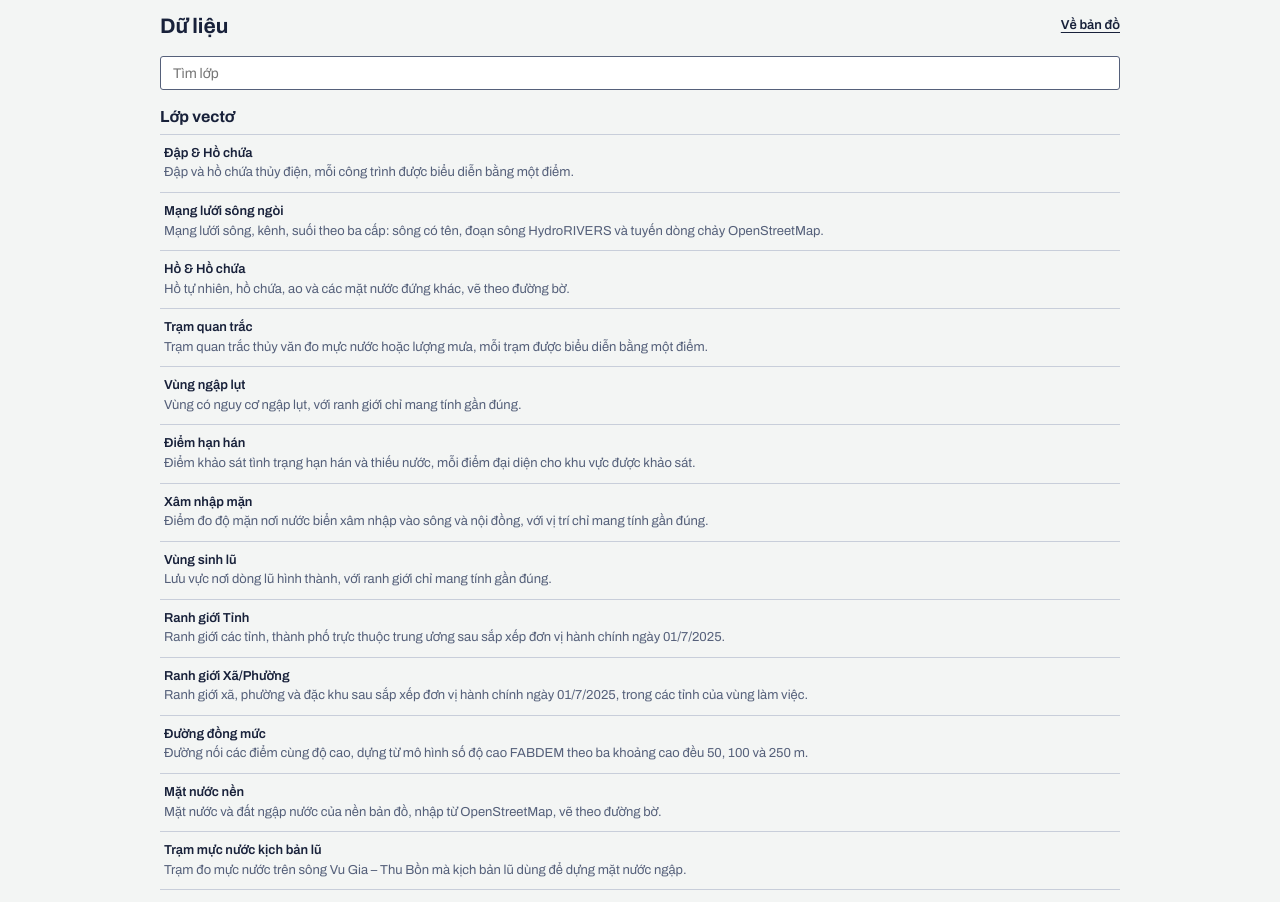
useDictionaryListPresenter › no match shows the empty message
In the search field labelled "Tìm lớp": coordinates (640, 73) [160,56,1120,90], type "zzzzqqq"
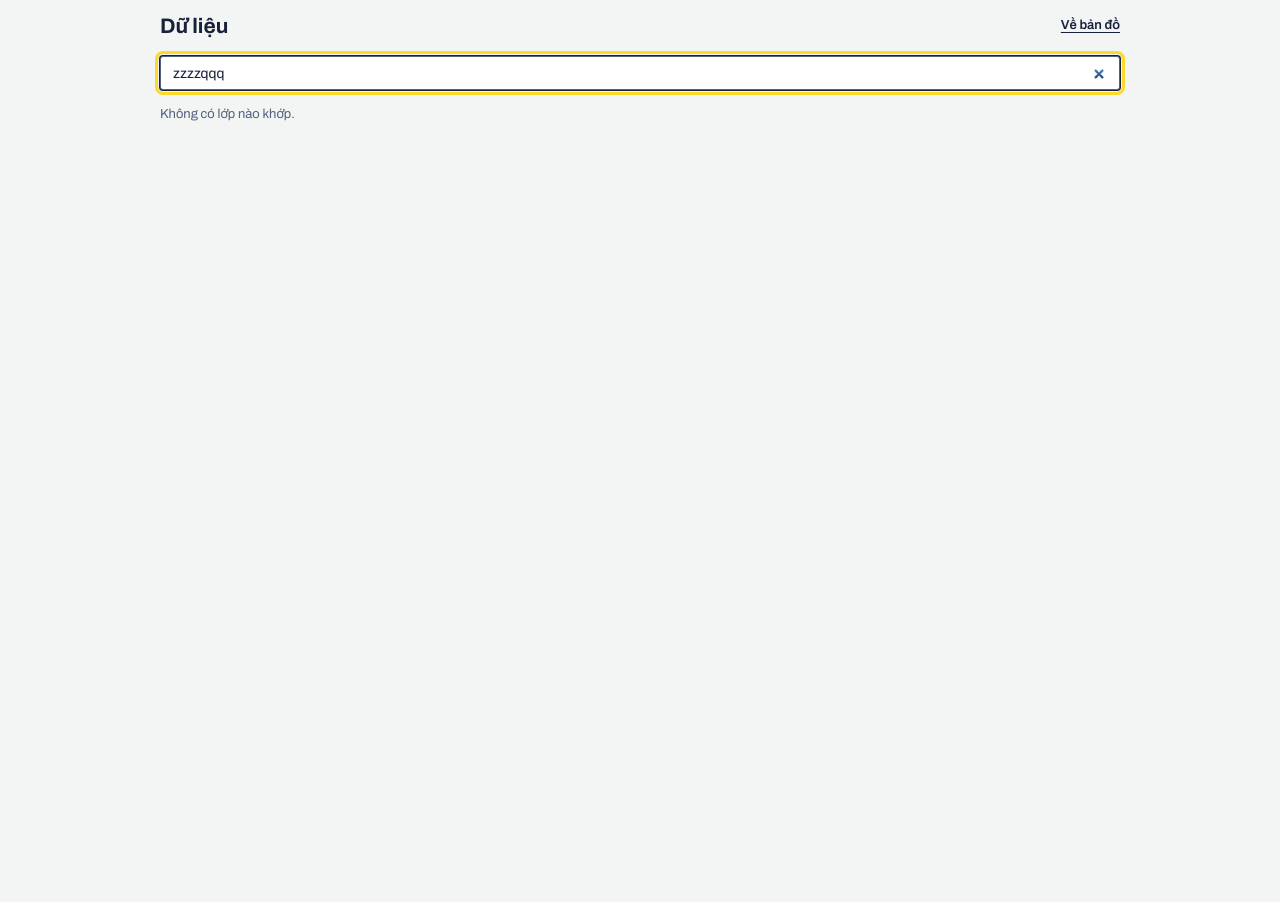
Expected: the text "Không có lớp nào khớp." is shown, [160,107,295,121]
